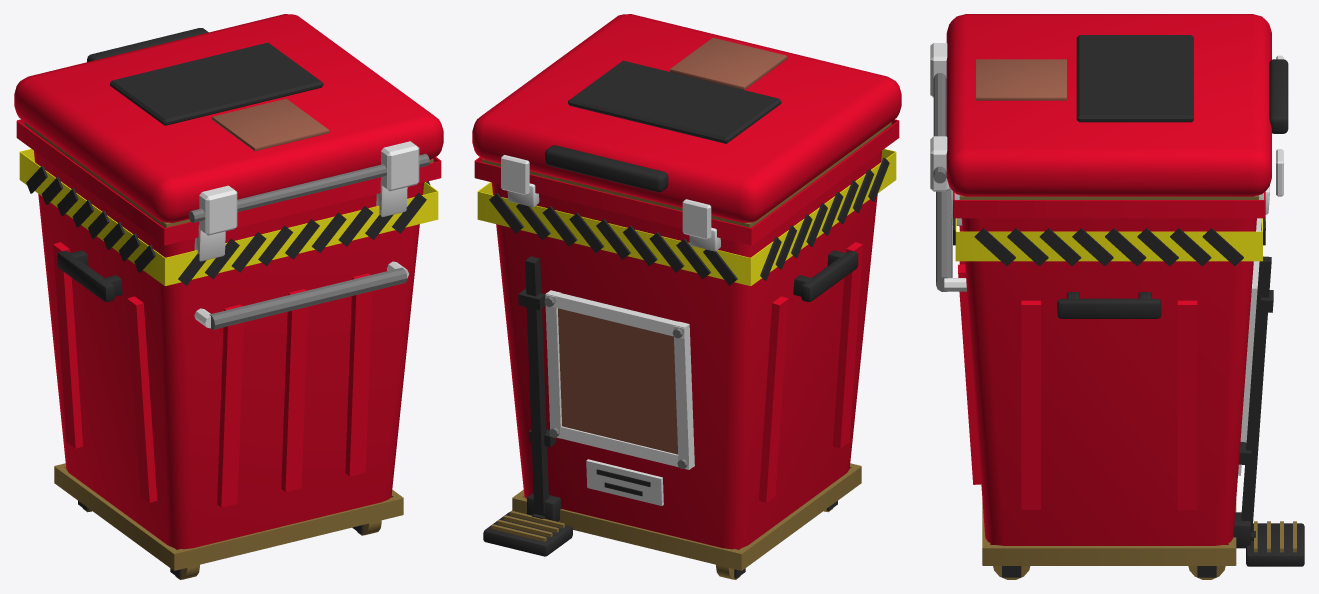
The model's file is mazy-poubelle-dasri.glb.
3 views of the same model, side by side, from view 1: azimuth 30°, elevation 25°; view 2: azimuth 150°, elevation 25°; view 3: azimuth 270°, elevation 25° (orthographic). The views are drawn at different scales.
Visible parts, largest first — view 1: Corps_Poubelle, Couvercle_Poubelle; view 2: Corps_Poubelle, Couvercle_Poubelle; view 3: Corps_Poubelle, Couvercle_Poubelle.
Part boxes in pixels (x1,y1,x2,y2): Corps_Poubelle: [16, 119, 441, 579]; Couvercle_Poubelle: [14, 14, 443, 235]; Corps_Poubelle: [474, 119, 899, 579]; Couvercle_Poubelle: [472, 14, 901, 239]; Corps_Poubelle: [936, 185, 1304, 579]; Couvercle_Poubelle: [930, 14, 1288, 199].
Size of the model in its own units: 0.5546 by 0.7703 by 0.575.
